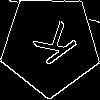K: (25, 20, 79, 73)
